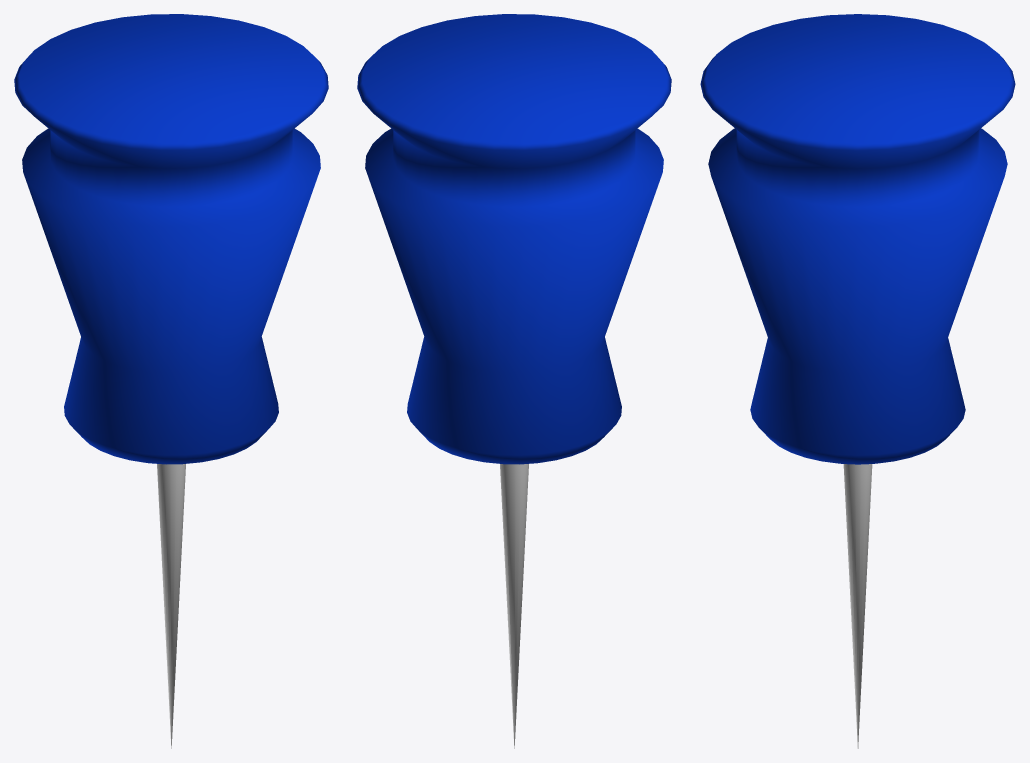
The model's file is Pin.fbx.
The picture shows the model from 3 angles, left to right: view 1: azimuth 30°, elevation 25°; view 2: azimuth 150°, elevation 25°; view 3: azimuth 270°, elevation 25°; orthographic projection.
Parts seen in each view (by area): view 1: Pin; view 2: Pin; view 3: Pin.
Part boxes in pixels (box(x1,y1,x2,y2)): Pin: box(14, 14, 328, 748); Pin: box(357, 14, 671, 748); Pin: box(700, 14, 1015, 748).
Bounding box in the file's own units: 31.93 × 74.96 × 31.93.
